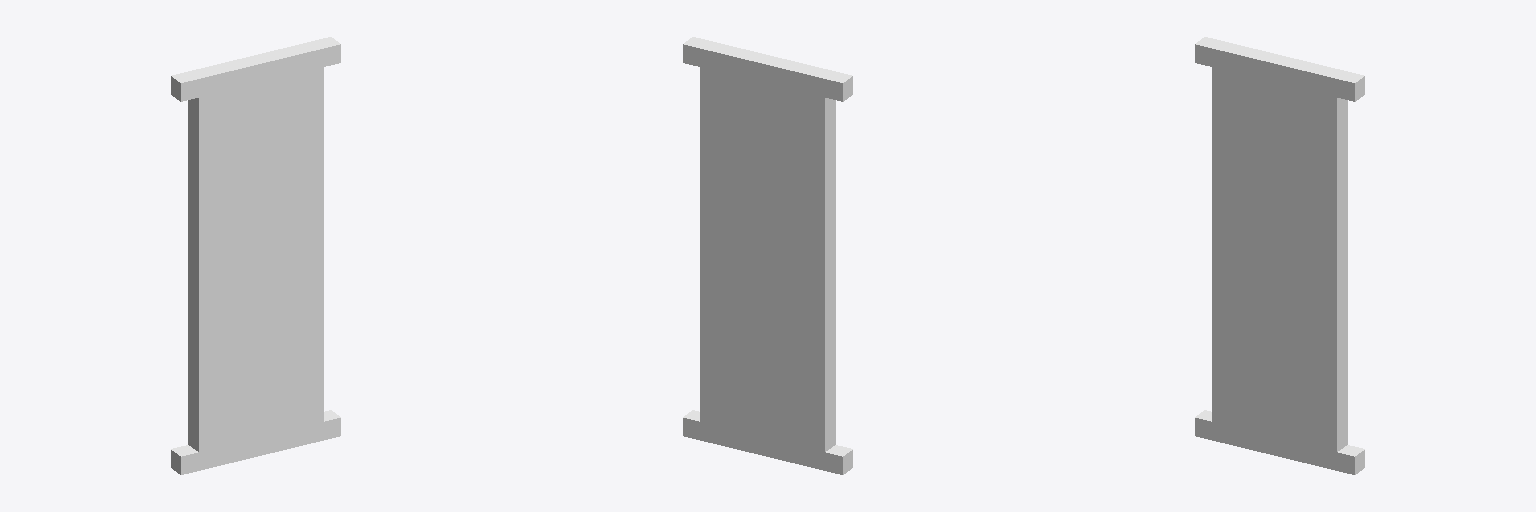
File: Steven_WallDecor03.obj
3 renders of one model, left to right at view 1: azimuth 30°, elevation 25°; view 2: azimuth 150°, elevation 25°; view 3: azimuth 330°, elevation 25°, orthographic.
Parts seen in each view (by area): view 1: Steven_WallDecor03; view 2: Steven_WallDecor03; view 3: Steven_WallDecor03.
Boxes of the visible parts, <box> form: Steven_WallDecor03: <box>171,37,340,474</box>; Steven_WallDecor03: <box>683,37,852,474</box>; Steven_WallDecor03: <box>1195,37,1364,474</box>.
Size of the model in its own units: 9 by 21 by 1.